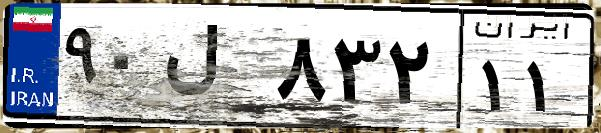0: (110, 28, 158, 98)
1: (475, 38, 525, 113), (525, 38, 570, 115)
2: (385, 28, 445, 110)
3: (330, 28, 385, 110)
8: (270, 28, 330, 110)
9: (57, 26, 110, 100)
ل: (158, 20, 270, 120)
